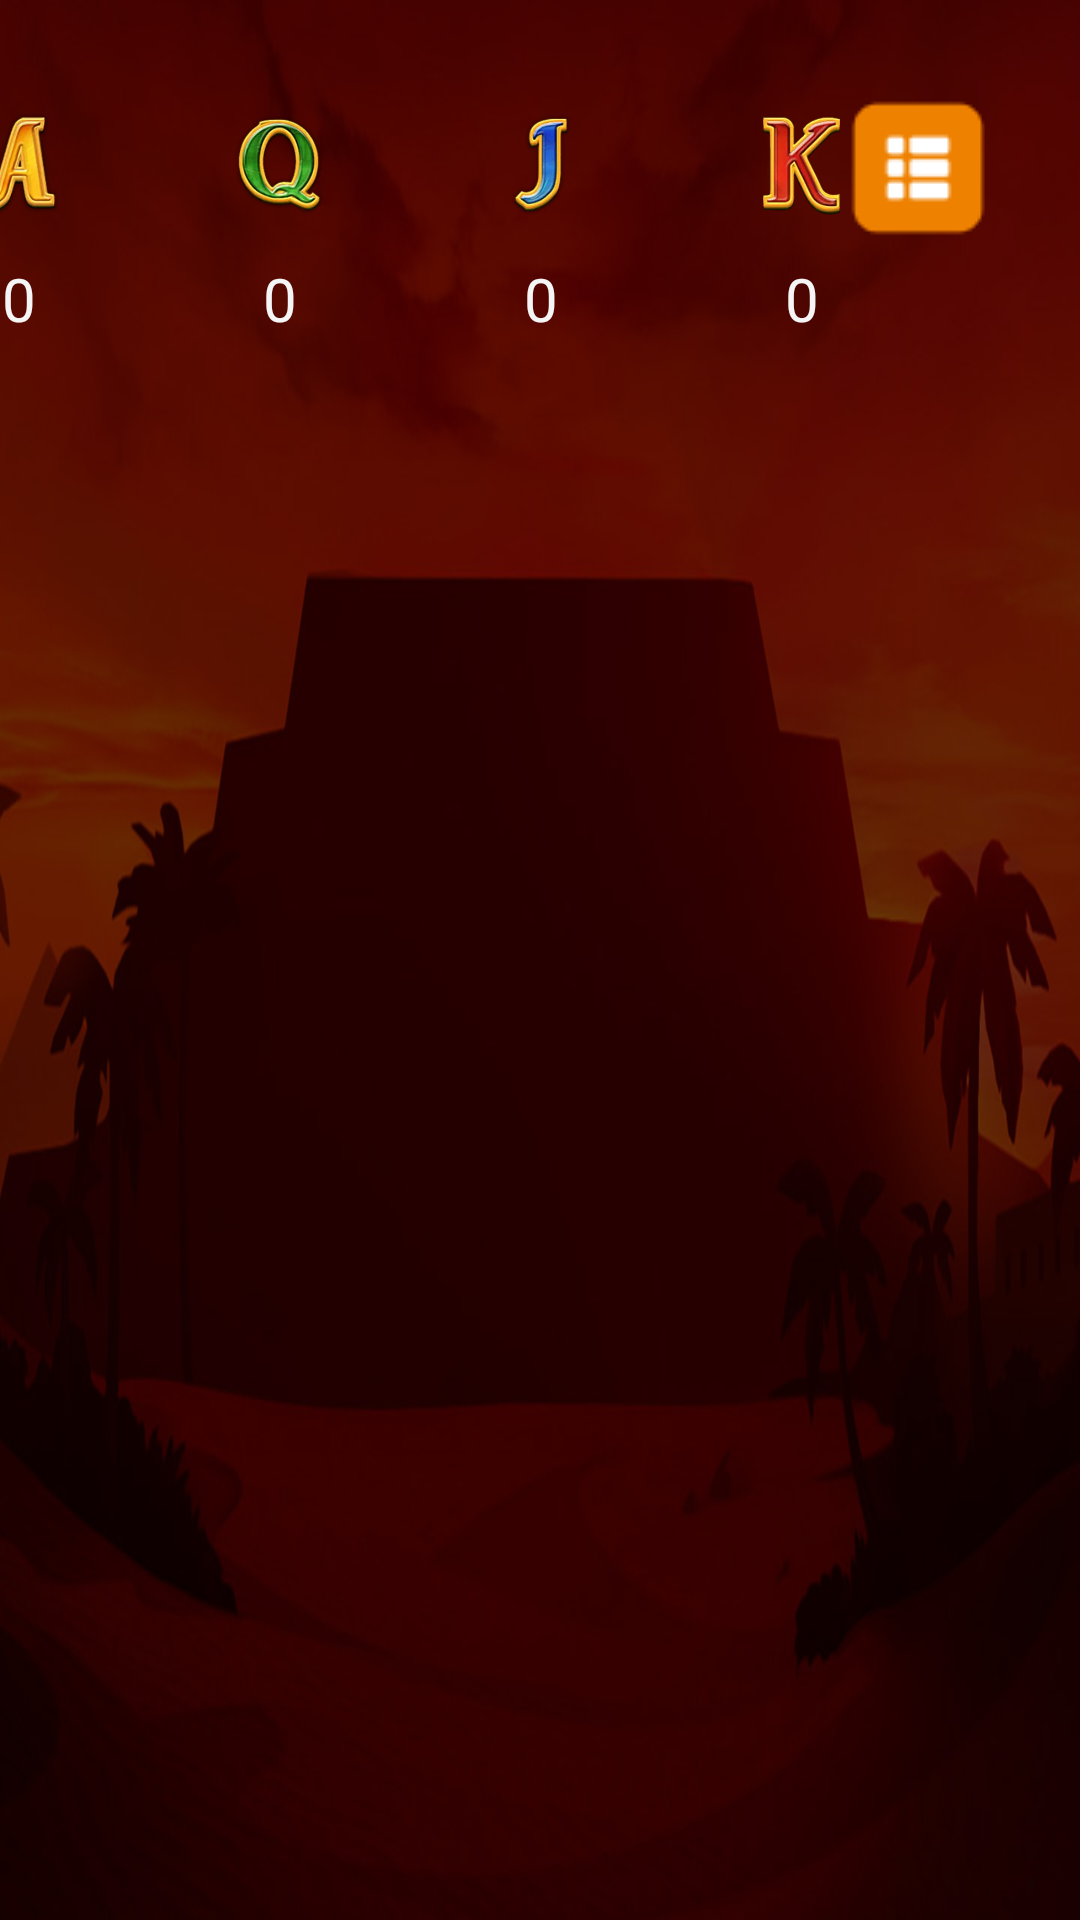

Where icons sit on this 1080w x 1920h app screen, as (x1, y1, x2, y2):
mainmenubutton: (852, 102, 984, 234)
